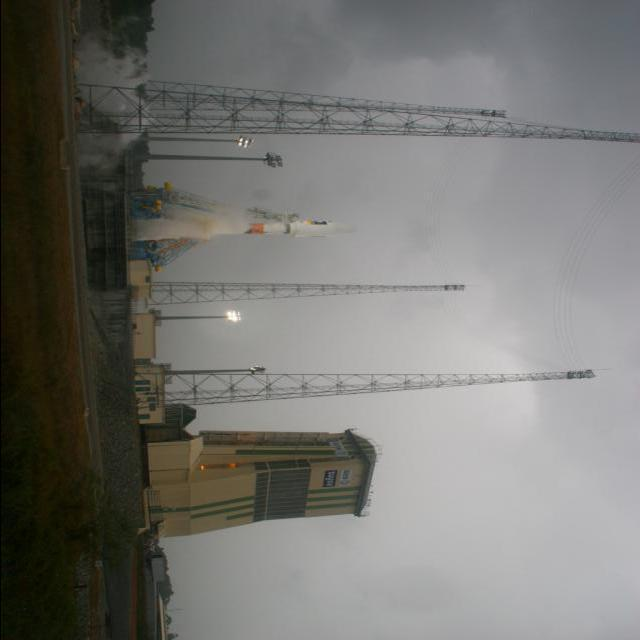missile: (134, 186, 349, 266)
